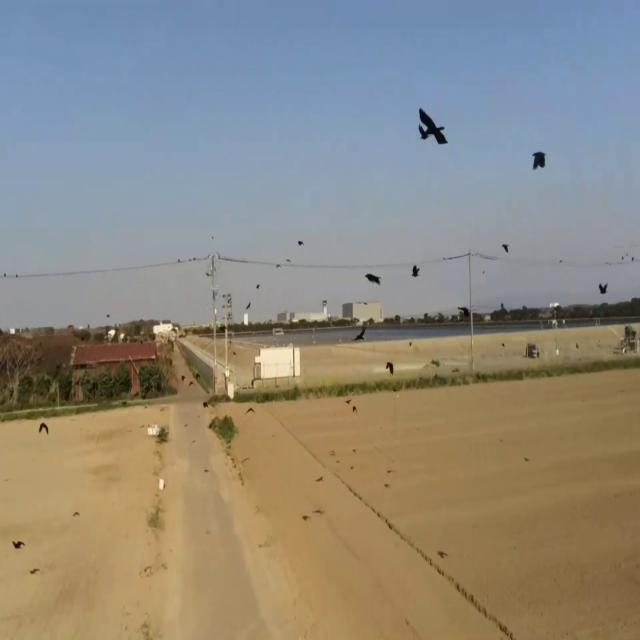bird: (417, 98, 448, 158), (532, 142, 546, 178), (12, 531, 26, 558), (365, 265, 380, 290), (38, 417, 49, 441), (598, 276, 608, 300), (412, 259, 420, 281), (244, 298, 251, 315), (502, 238, 508, 256), (298, 234, 303, 249), (228, 292, 233, 304), (276, 261, 280, 271)
